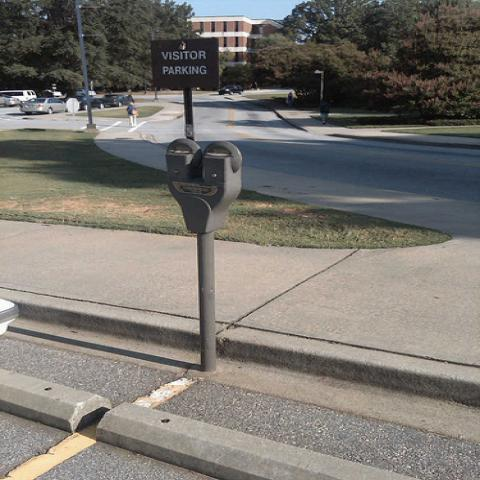car: (20, 98, 67, 114), (80, 93, 106, 113), (104, 94, 134, 108), (1, 91, 36, 102), (217, 86, 245, 96), (0, 94, 21, 107)
